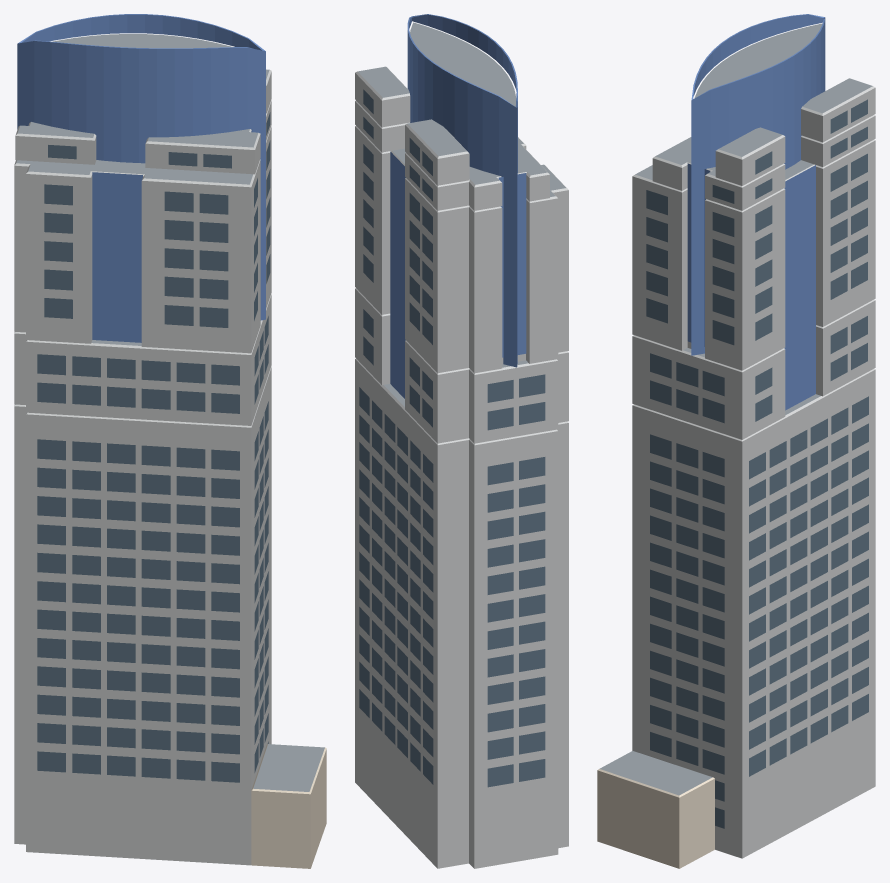
The picture shows the model from 3 angles, left to right: view 1: azimuth 30°, elevation 25°; view 2: azimuth 150°, elevation 25°; view 3: azimuth 270°, elevation 25°; orthographic projection. The views are drawn at different scales.
Visible parts, largest first — view 1: gas-company-tower; view 2: gas-company-tower; view 3: gas-company-tower.
Boxes of the visible parts, x1,y1,x2,y2 form: gas-company-tower: (14,14,326,868); gas-company-tower: (355,14,568,868); gas-company-tower: (597,14,875,868).
Bounding box in the file's own units: 77.39 × 230 × 76.54.
